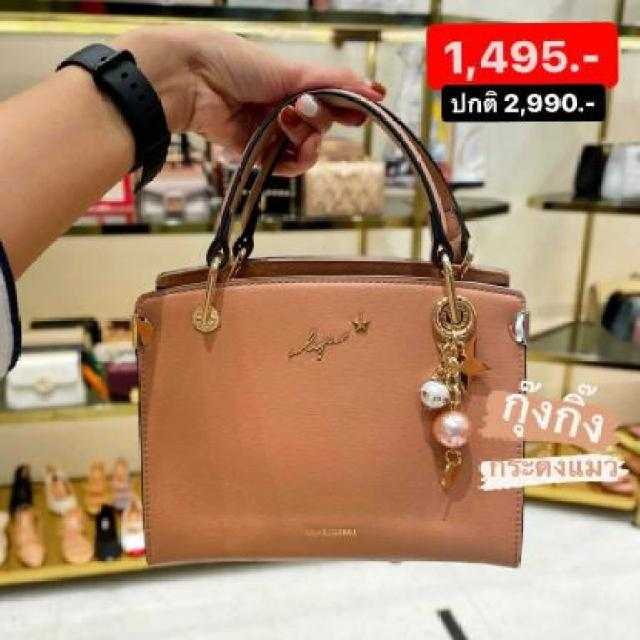Bag: (77, 72, 640, 626)
